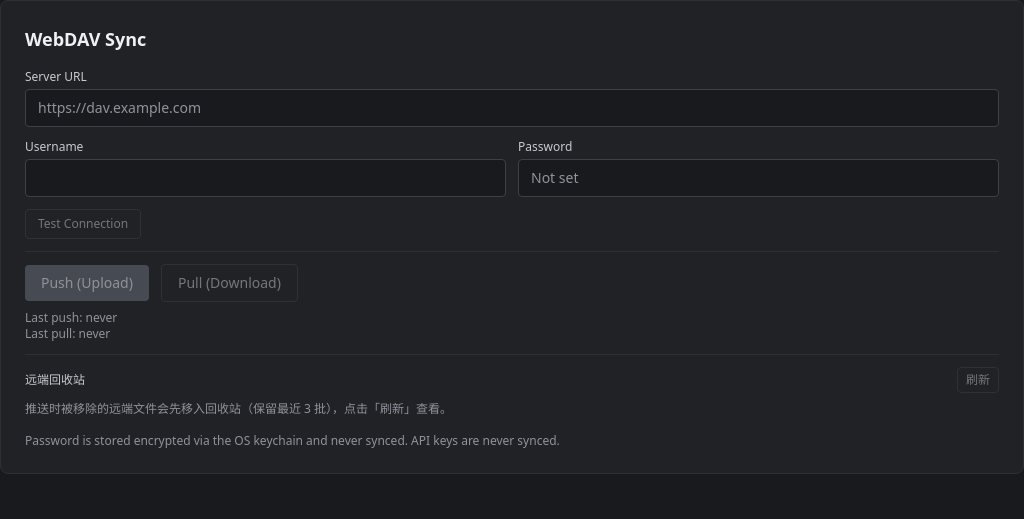
WebDavSyncView — push › pushes and records the timestamp
The width and height of the screenshot is (1024, 519).
Type "https://dav.example/dav" into the field with placeholder "https://dav.example.com".
click(512, 108); type("https://dav.example/dav")  # box [25, 89, 999, 127]
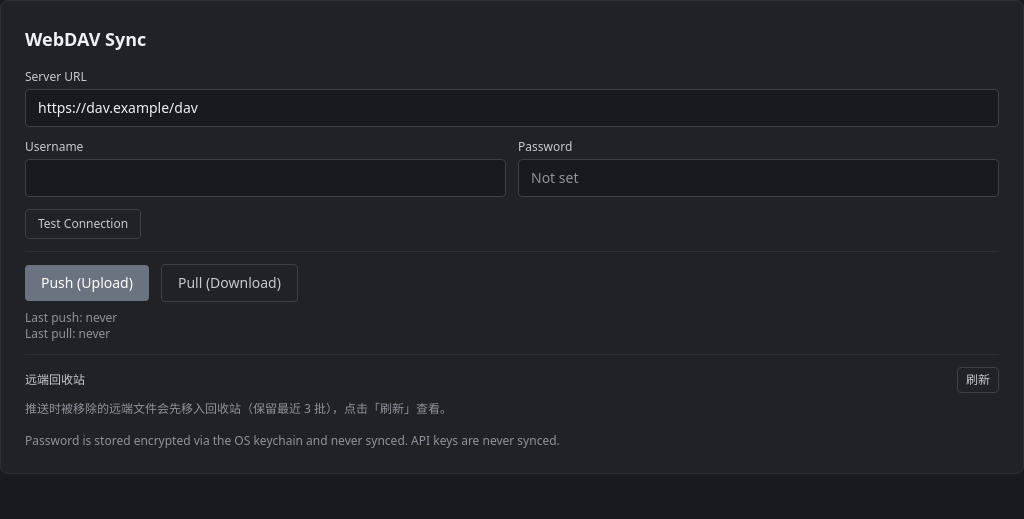
Click the button "Push (Upload)".
click(87, 283)  # box [25, 265, 149, 301]
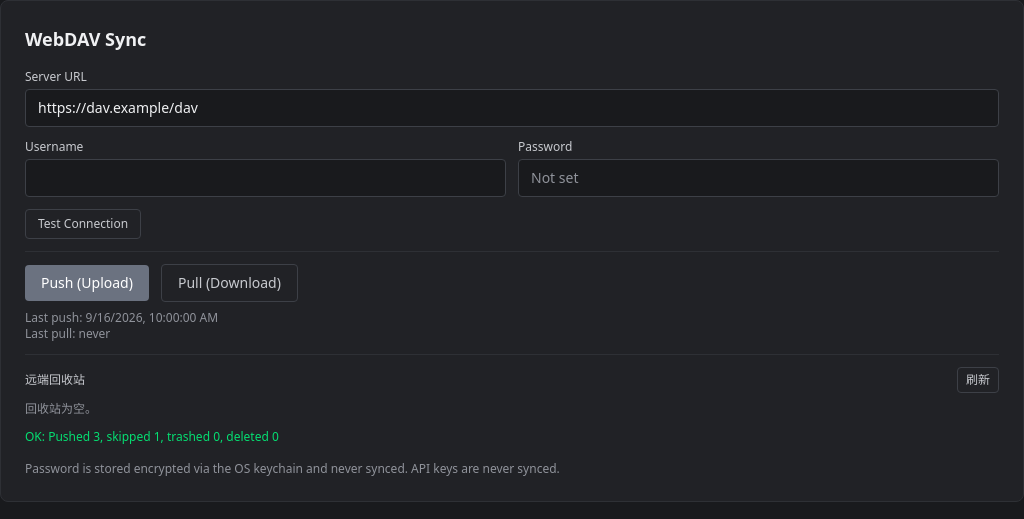
expect the text "OK: Pushed 3, skipped 1, trashed 0, deleted 0" is shown: met, box [25, 428, 279, 445]
